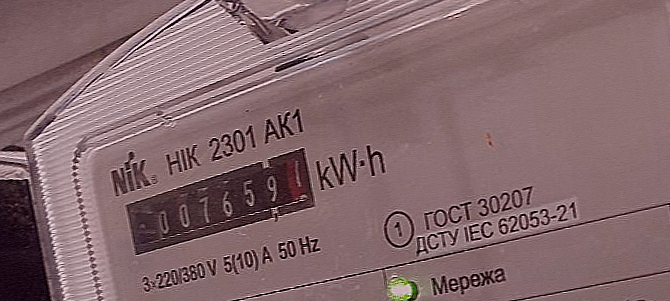0: (155, 206, 172, 236), (175, 202, 192, 230)
1: (289, 159, 305, 191)
5: (239, 178, 258, 211)
6: (218, 188, 235, 220)
7: (195, 193, 214, 226)
9: (262, 171, 282, 207)
screen: (106, 139, 338, 264)
